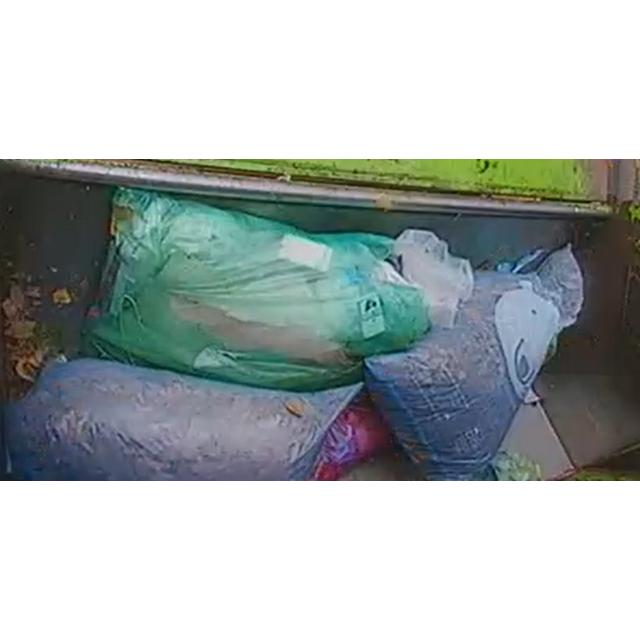general_trashbag: (90, 189, 430, 392)
other_trashbag: (365, 246, 582, 480), (6, 359, 361, 480)
